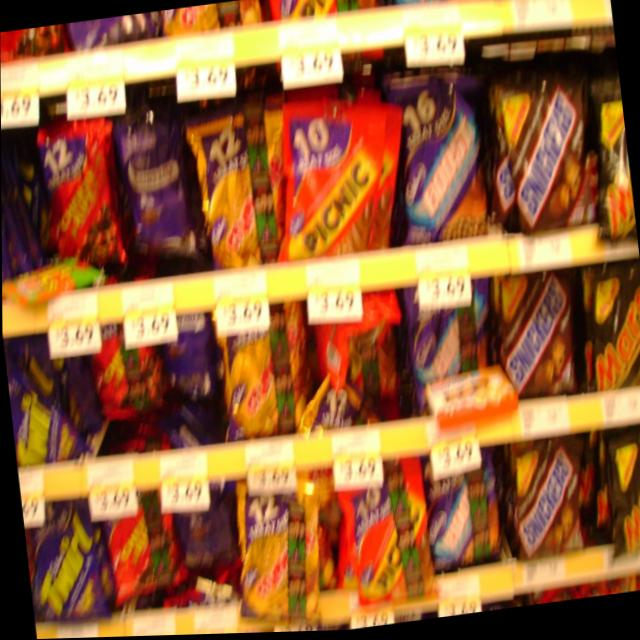q142: (488, 76, 598, 242), (494, 263, 579, 401), (505, 439, 589, 573)
